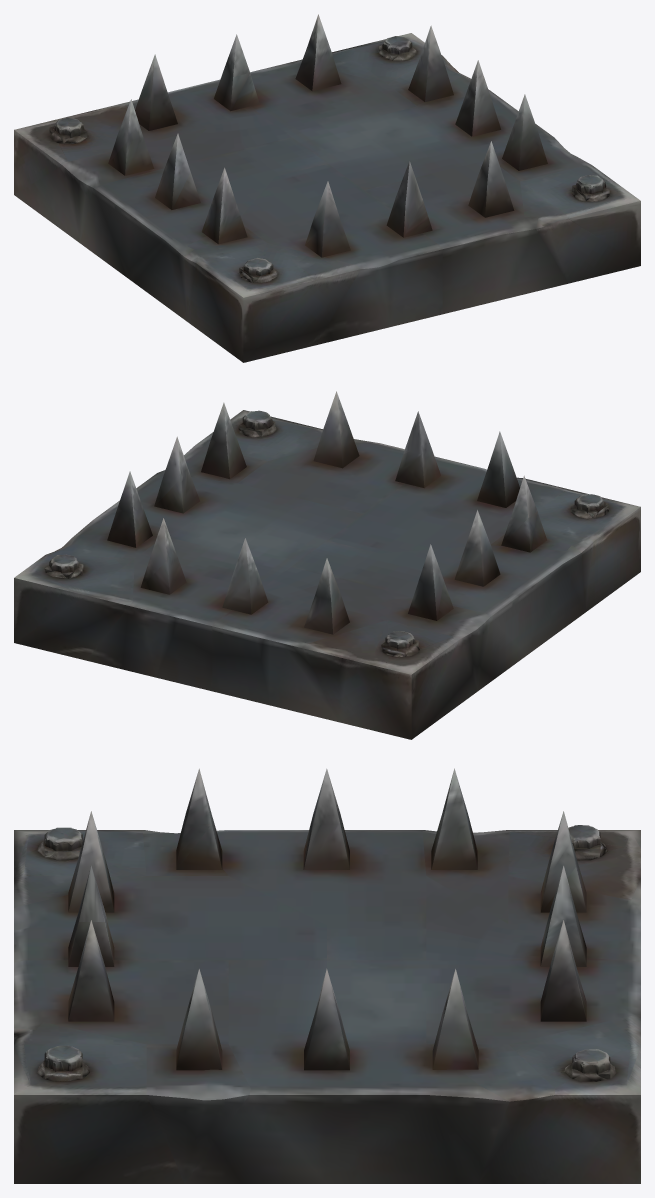
Rendered from spike_trap.glb.
The picture shows the model from 3 angles, top to bottom: view 1: azimuth 30°, elevation 25°; view 2: azimuth 150°, elevation 25°; view 3: azimuth 270°, elevation 25°; orthographic projection. The views are drawn at different scales.
Visible parts, largest first — view 1: model; view 2: model; view 3: model.
Boxes of the visible parts, x1,y1,x2,y2 form: model: (14,14,640,362); model: (14,391,640,739); model: (14,768,640,1183).
Bounding box in the file's own units: 3.1 × 1 × 3.1.
Materials: 1 (1 with a texture image).
